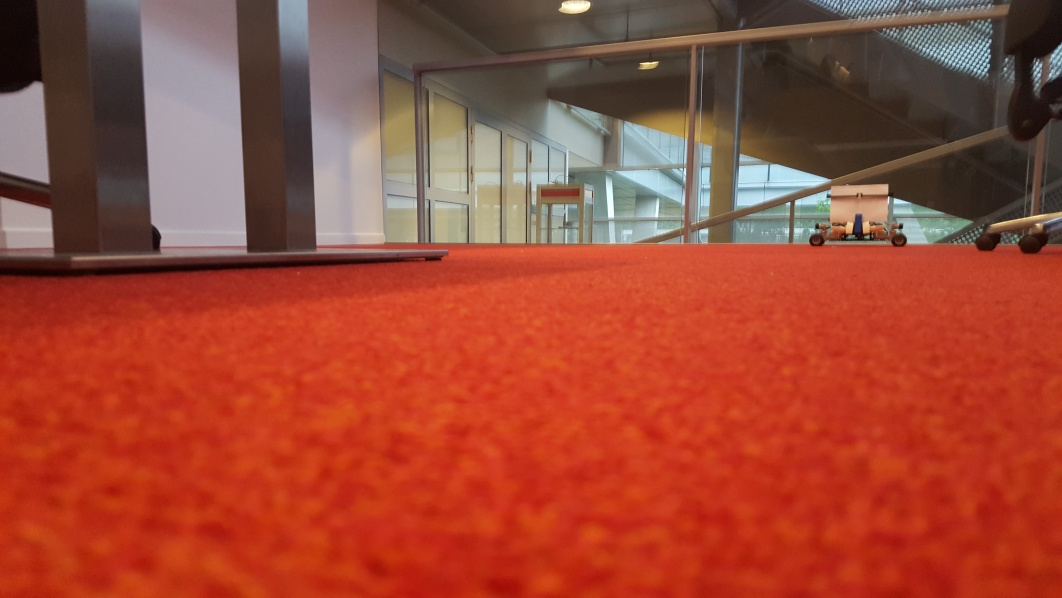car: (805, 182, 910, 248)
